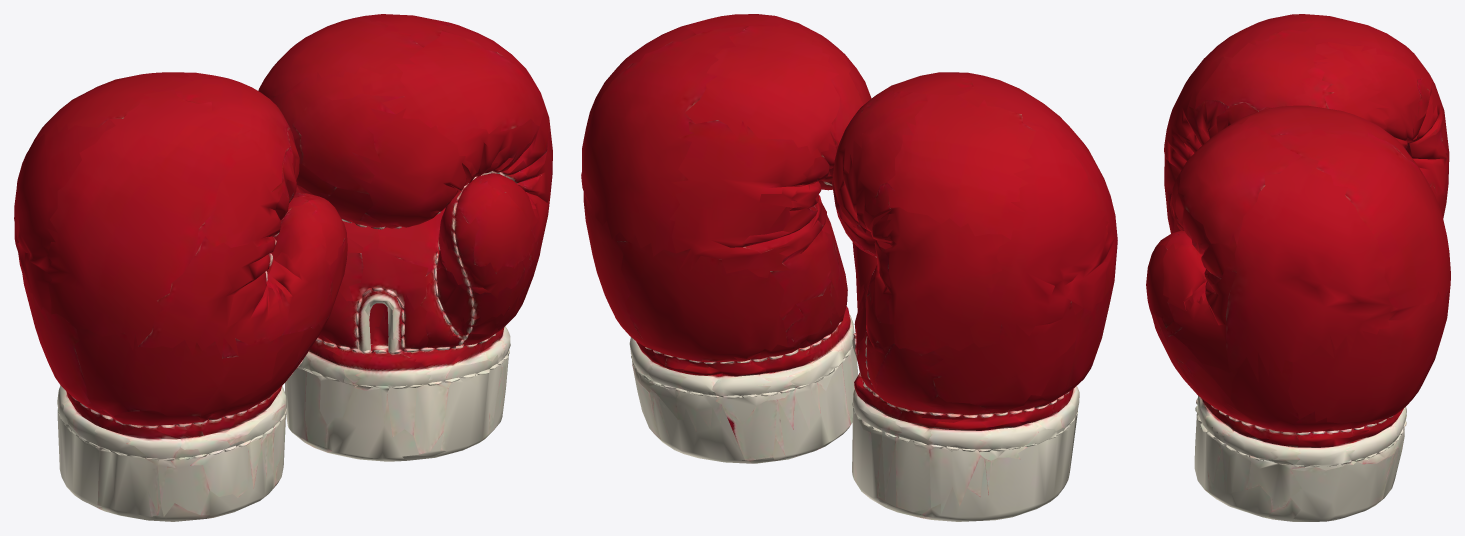
Rendered from weapon-bosh.glb.
The picture shows the model from 3 angles, left to right: view 1: azimuth 30°, elevation 25°; view 2: azimuth 150°, elevation 25°; view 3: azimuth 270°, elevation 25°; orthographic projection. The views are drawn at different scales.
Visible parts, largest first — view 1: Mesh_0; view 2: Mesh_0; view 3: Mesh_0.
Boxes of the visible parts, left/top/right/bottom form: Mesh_0: left=14, top=14, right=552, bottom=521; Mesh_0: left=581, top=14, right=1117, bottom=521; Mesh_0: left=1146, top=14, right=1450, bottom=521.
Bounding box in the file's own units: 1.9 × 1.43 × 1.09.
Materials: 1 (1 with a texture image).
